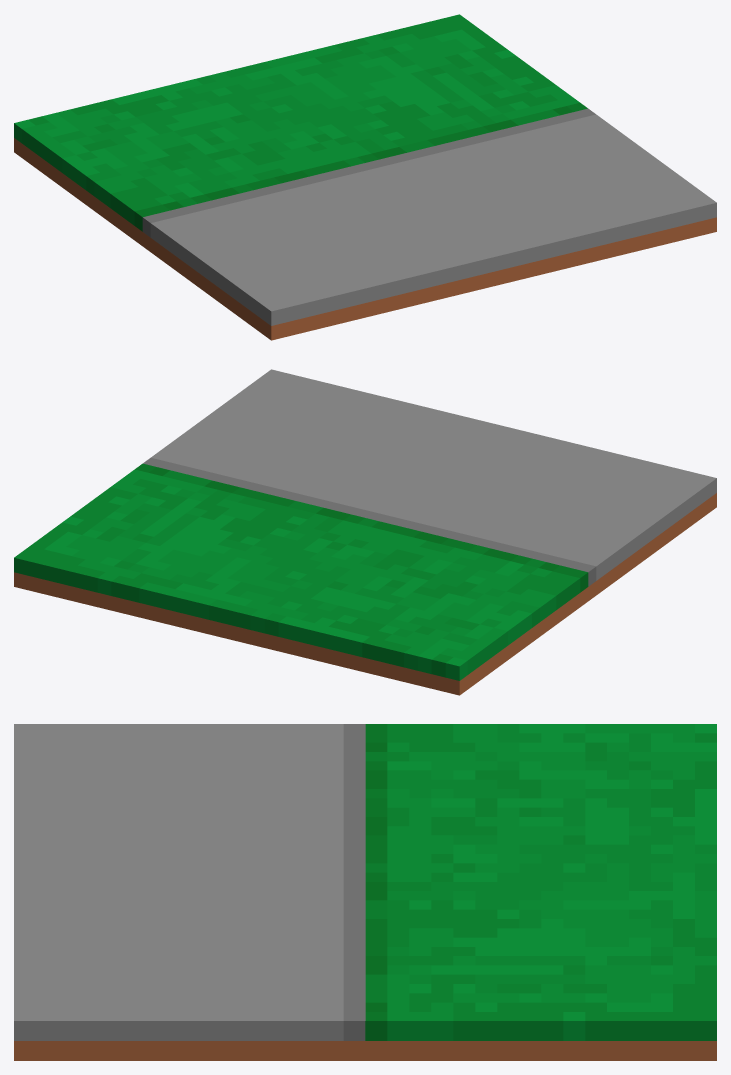
Rendered from forest-city-side-2.gltf.
3 views of the same model, one above another, from view 1: azimuth 30°, elevation 25°; view 2: azimuth 150°, elevation 25°; view 3: azimuth 270°, elevation 25° (orthographic). The views are drawn at different scales.
Visible parts, largest first — view 1: forest-city-side-2; view 2: forest-city-side-2; view 3: forest-city-side-2.
Part boxes in pixels (left/top/right/bottom): forest-city-side-2: left=14, top=14, right=716, bottom=340; forest-city-side-2: left=14, top=369, right=716, bottom=695; forest-city-side-2: left=14, top=724, right=716, bottom=1060.
Size of the model in its own units: 3.2 by 0.2 by 3.2.
1 material, 1 textured.
